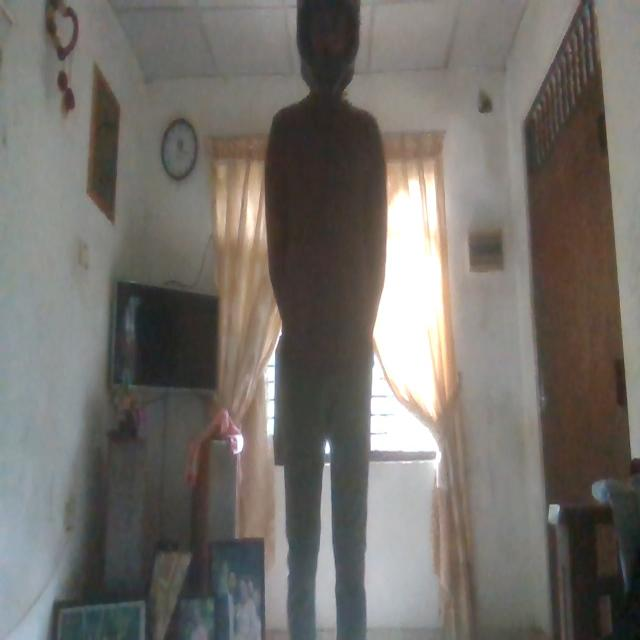Helmet_Wearer: (294, 1, 364, 106)
Person: (256, 0, 404, 640)
